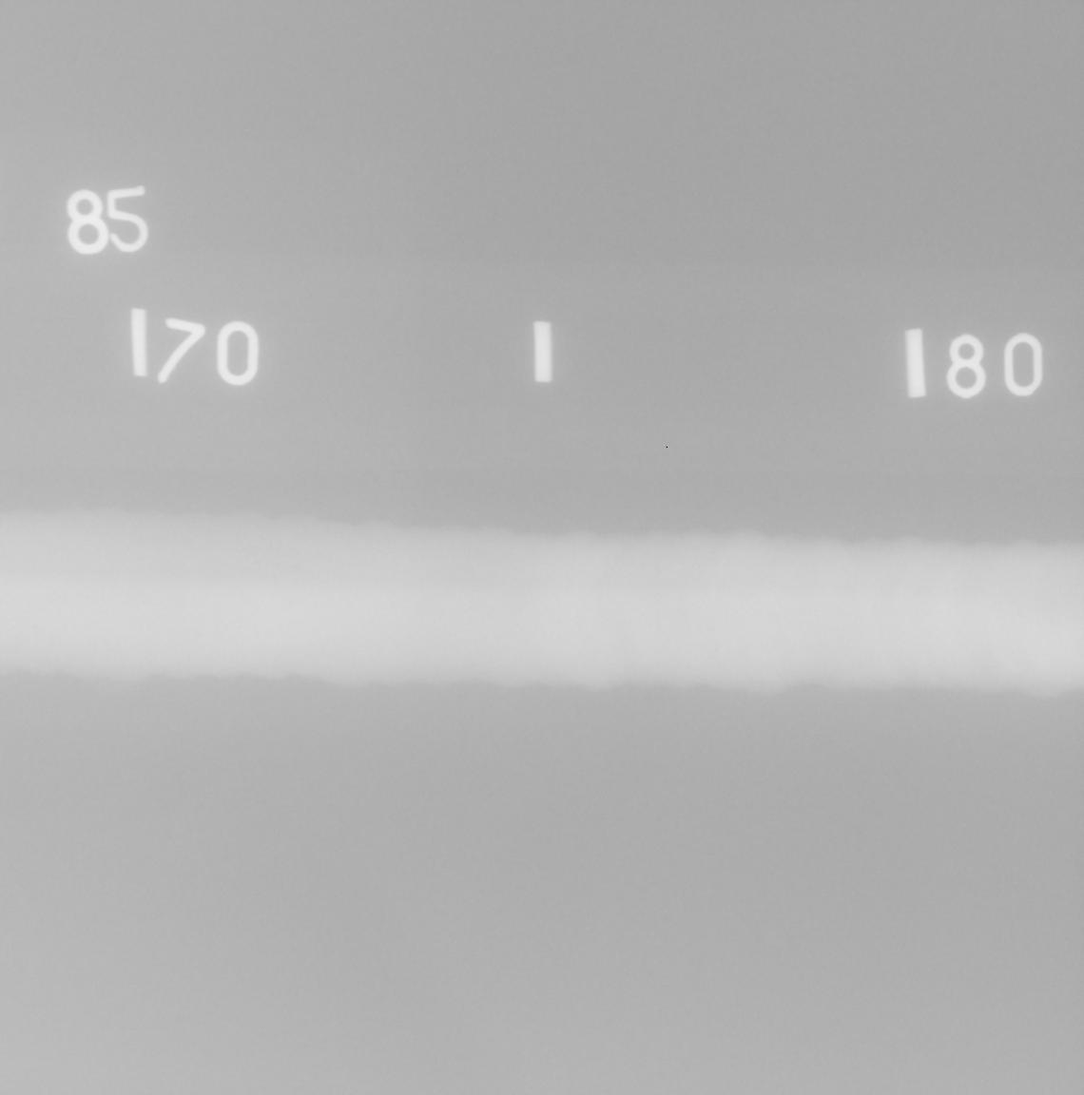Pore/Porosity: (271, 562, 282, 567), (291, 564, 298, 571), (254, 558, 261, 564)
